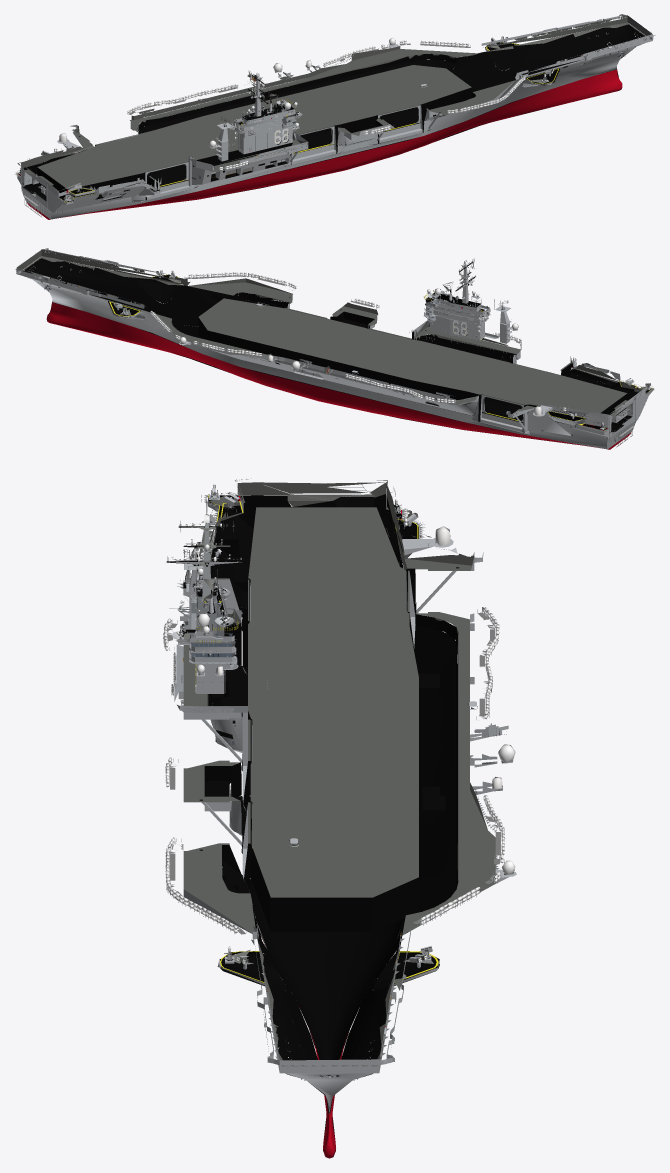
File: nimitz-far.glb
3 renders of one model, top to bottom at view 1: azimuth 30°, elevation 25°; view 2: azimuth 150°, elevation 25°; view 3: azimuth 270°, elevation 25°, orthographic. The views are drawn at different scales.
Bounding box in the file's own units: 13199 × 2917 × 3456.
